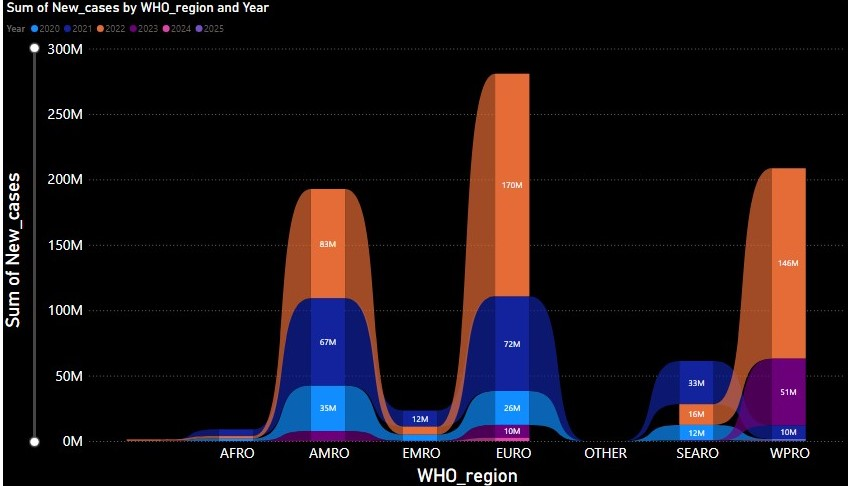

Layout of this report page (visuals, bound fields, positions):
{"tool":"powerbi","page":{"name":"Page 4","canvas":[1280,720],"ordinal":3},"visuals":[{"type":"ribbonChart","fields":{"Category":["WHO-COVID-19-global-data (2).WHO_region"],"Y":["Sum(WHO-COVID-19-global-data (2).New_cases)"],"Series":["WHO-COVID-19-global-data (2).Date_reported.Variation.Date Hierarchy.Year"]},"box":[10,0,1208.3,700],"z":0}]}

Visuals, with their boxes in screenshot pixels (x1, y1, x2, y2), scaled from the page's 1280x720 canvas onto the 848x486 screenshot:
ribbonChart - WHO-COVID-19-global-data (2).WHO_region x Sum(WHO-COVID-19-global-data (2).New_cases): (x1=7, y1=0, x2=807, y2=473)
